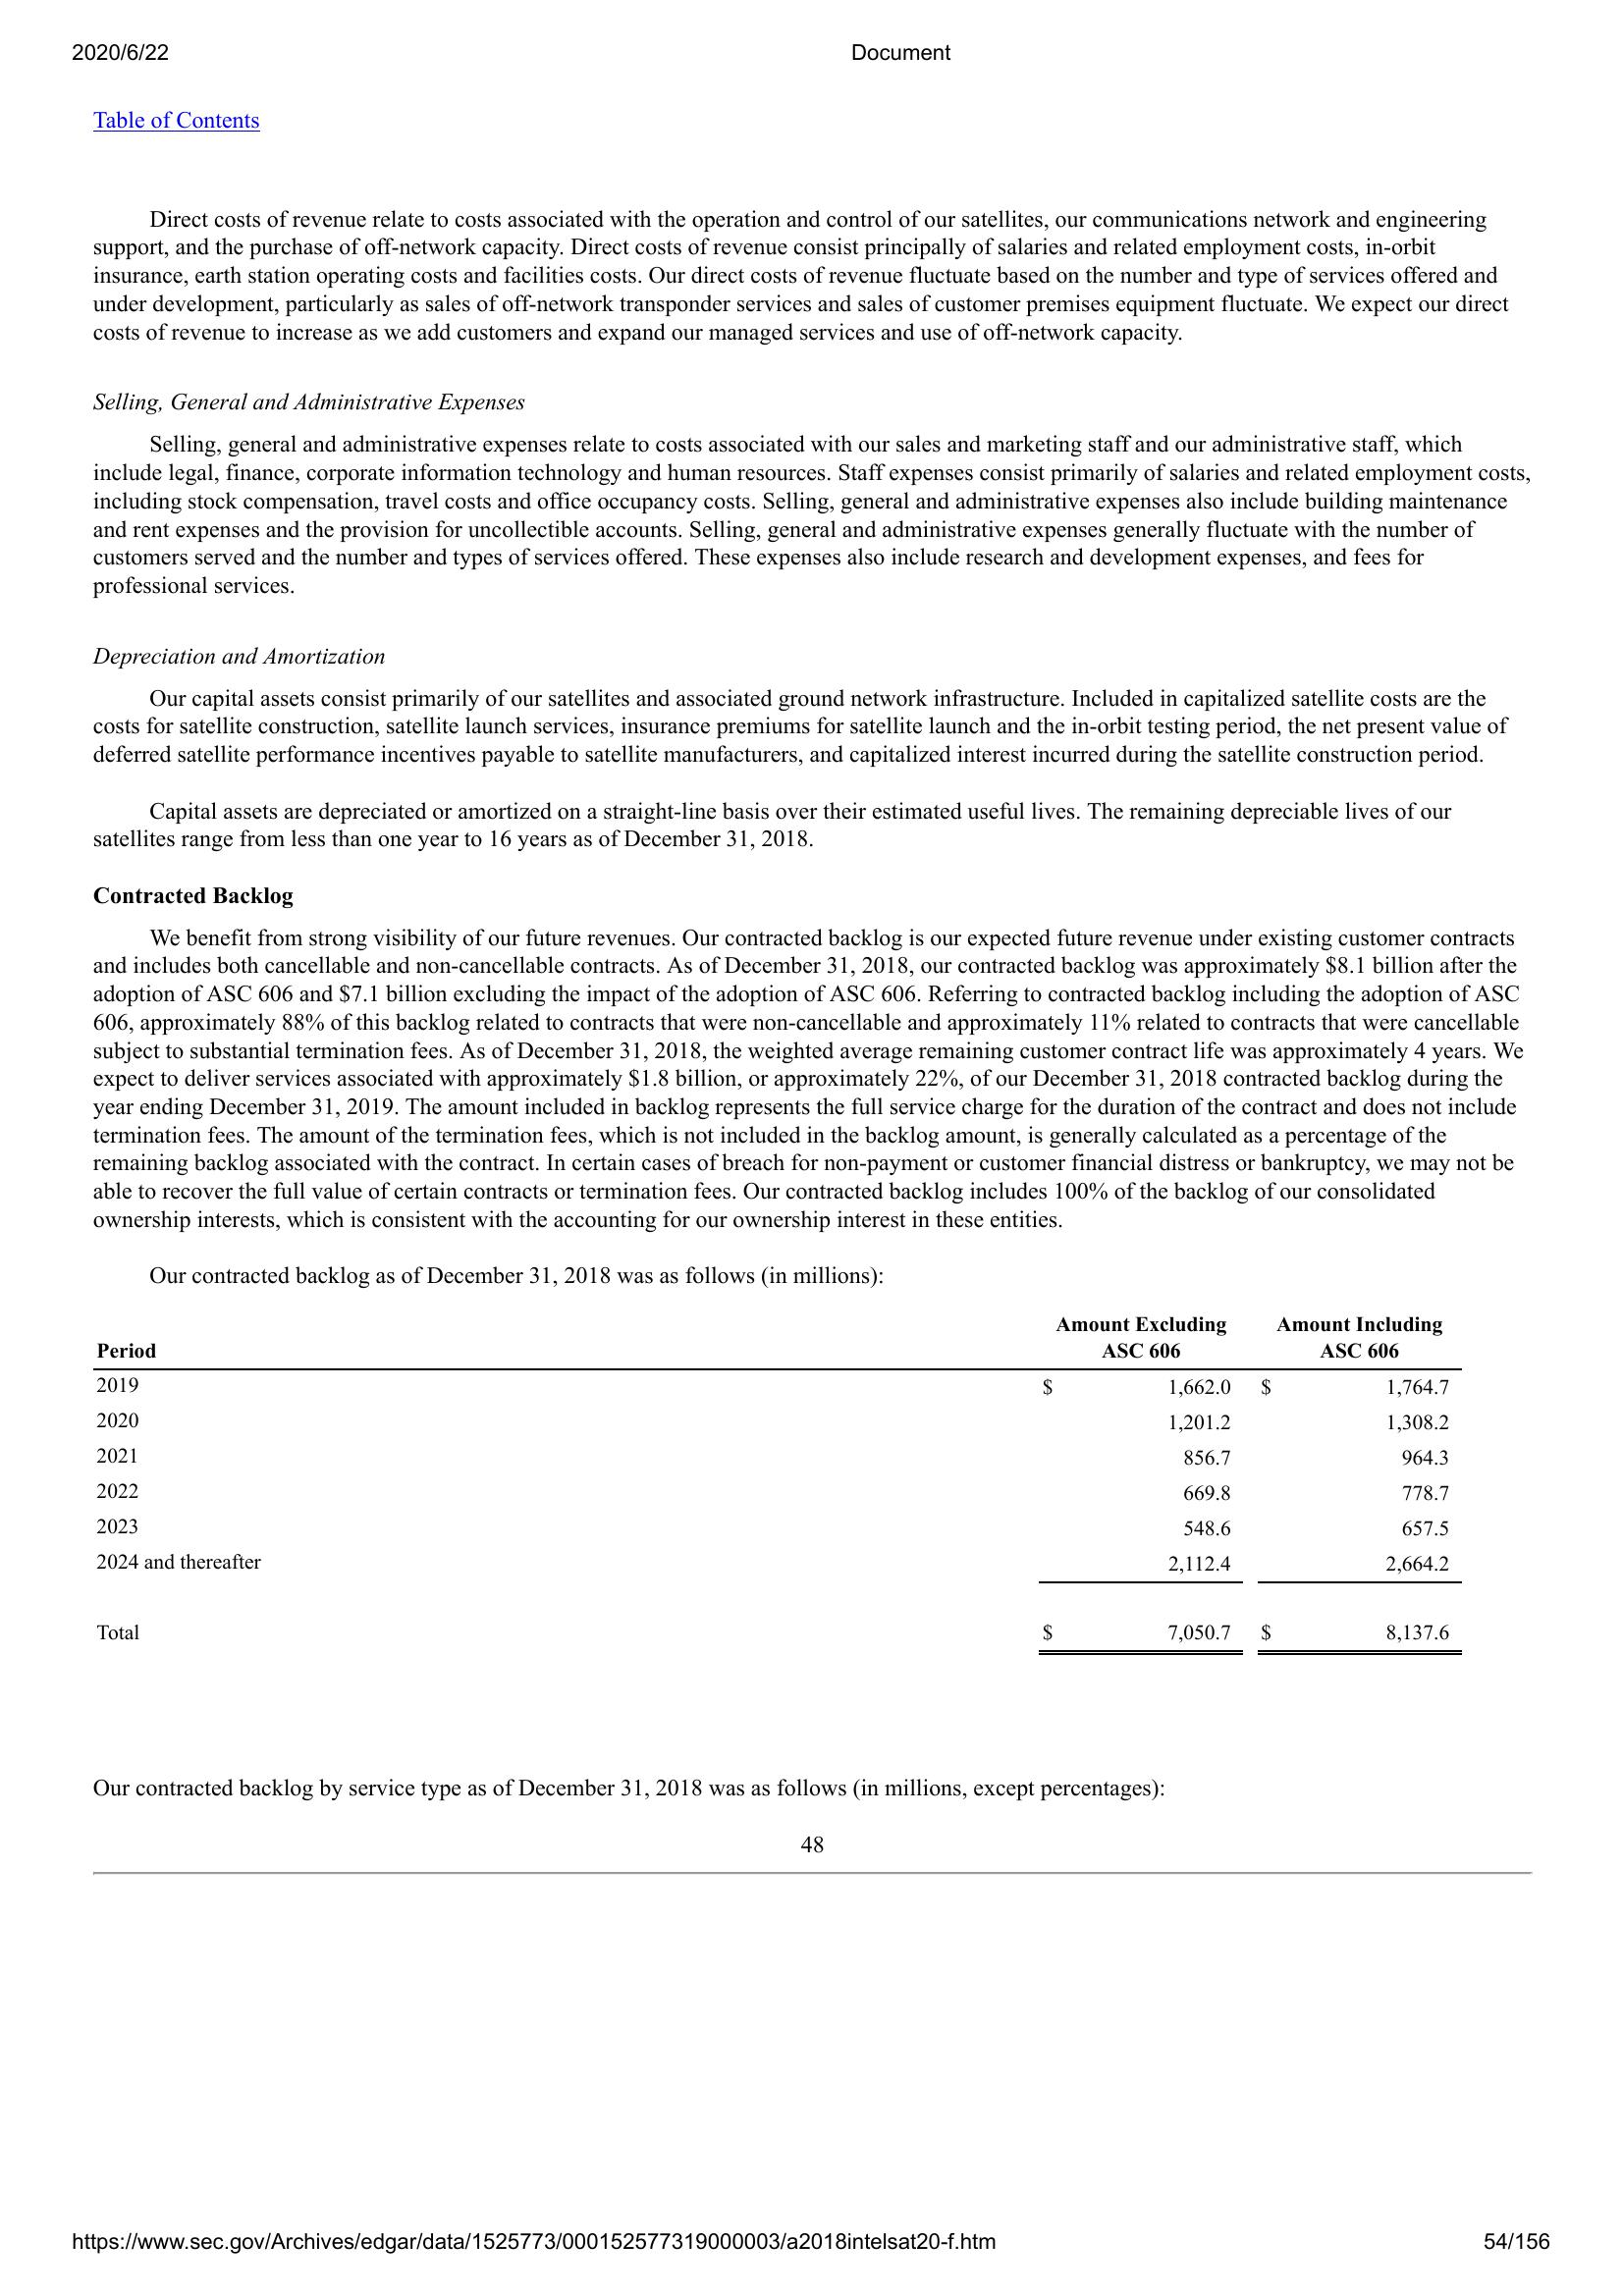table: (90, 1317, 1468, 1668)
